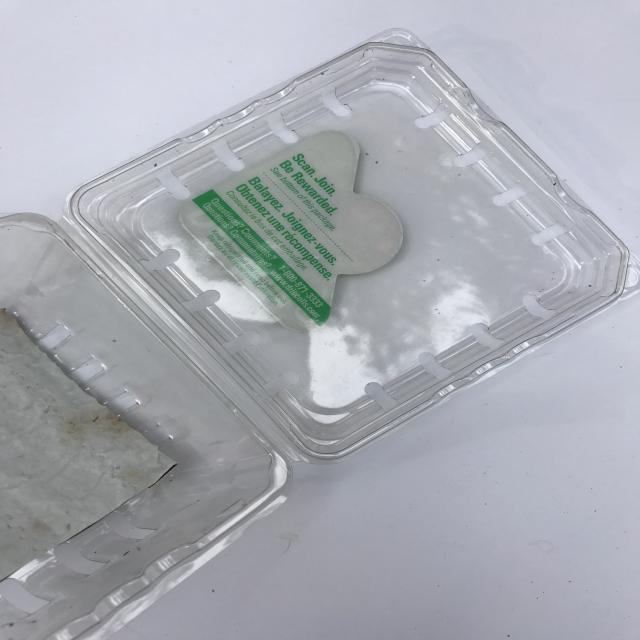plastic: (1, 27, 634, 638)
